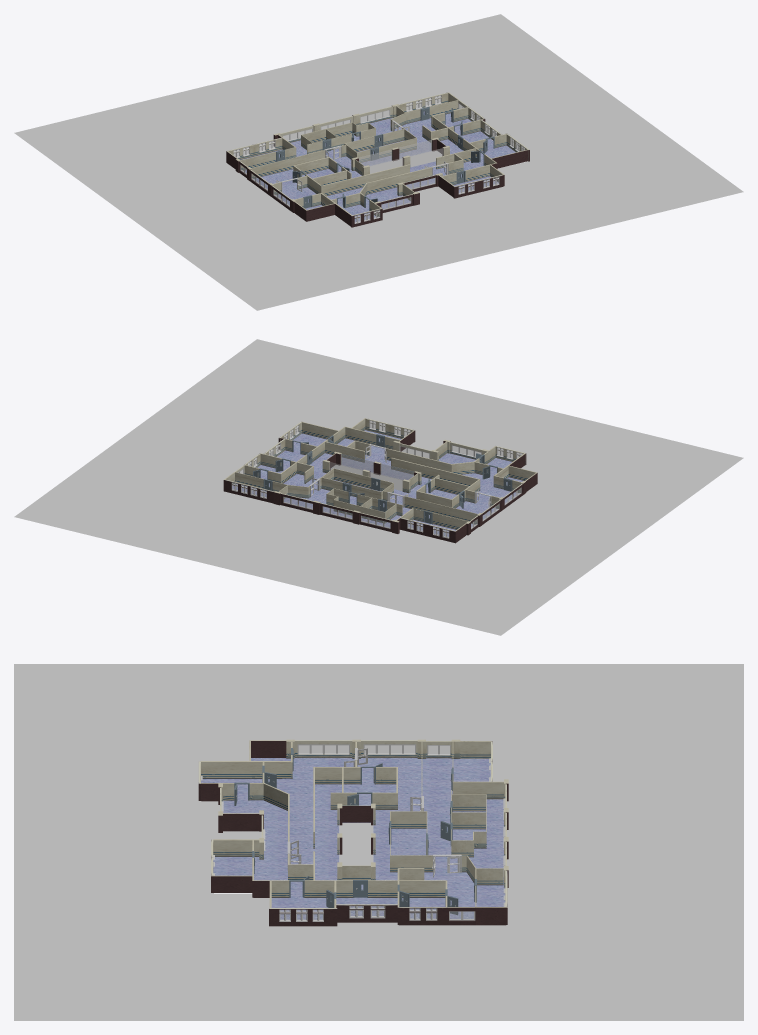
Rendered from Level 2.3.fbx.
3 renders of one model, top to bottom at view 1: azimuth 30°, elevation 25°; view 2: azimuth 150°, elevation 25°; view 3: azimuth 270°, elevation 25°, orthographic. The views are drawn at different scales.
Visible parts, largest first — view 1: Level_2_Layout:Groundplane_outside, Level_2_Layout:Walls, Level_2_Layout:Groundplane_inside, Level_2_Layout:Windowed_Wall_1, Level_2_Layout:Doors_1, Glass_Wall, polySurface263; view 2: Level_2_Layout:Groundplane_outside, Level_2_Layout:Walls, Level_2_Layout:Groundplane_inside, Level_2_Layout:Windowed_Wall_1, Level_2_Layout:Doors_1, polySurface263, Glass_Wall, Level_2_Layout:Doors_2; view 3: Level_2_Layout:Groundplane_outside, Level_2_Layout:Groundplane_inside, Level_2_Layout:Walls, Level_2_Layout:Windowed_Wall_1, polySurface263, Level_2_Layout:Doors_1, Level_2_Layout:Doors_2, Window5.
Boxes of the visible parts, left/top/right/bottom form: Level_2_Layout:Groundplane_outside: left=14, top=14, right=743, bottom=310; Level_2_Layout:Walls: left=227, top=92, right=528, bottom=226; Level_2_Layout:Groundplane_inside: left=240, top=111, right=515, bottom=222; Level_2_Layout:Windowed_Wall_1: left=226, top=92, right=529, bottom=227; Level_2_Layout:Doors_1: left=276, top=107, right=494, bottom=210; Glass_Wall: left=359, top=140, right=443, bottom=173; polySurface263: left=239, top=99, right=467, bottom=210; Level_2_Layout:Groundplane_outside: left=14, top=339, right=743, bottom=635; Level_2_Layout:Walls: left=223, top=418, right=537, bottom=542; Level_2_Layout:Groundplane_inside: left=232, top=430, right=523, bottom=536; Level_2_Layout:Windowed_Wall_1: left=224, top=418, right=526, bottom=543; Level_2_Layout:Doors_1: left=253, top=434, right=512, bottom=524; polySurface263: left=234, top=465, right=522, bottom=532; Glass_Wall: left=329, top=454, right=413, bottom=490; Level_2_Layout:Doors_2: left=309, top=444, right=491, bottom=507; Level_2_Layout:Groundplane_outside: left=14, top=664, right=743, bottom=1020; Level_2_Layout:Groundplane_inside: left=201, top=758, right=505, bottom=919; Level_2_Layout:Walls: left=200, top=739, right=508, bottom=925; Level_2_Layout:Windowed_Wall_1: left=198, top=741, right=507, bottom=926; polySurface263: left=294, top=740, right=506, bottom=925; Level_2_Layout:Doors_1: left=234, top=748, right=476, bottom=915; Level_2_Layout:Doors_2: left=287, top=748, right=461, bottom=877; Window5: left=299, top=745, right=414, bottom=752.
Bounding box in the file's own units: 397 × 10.23 × 343.
